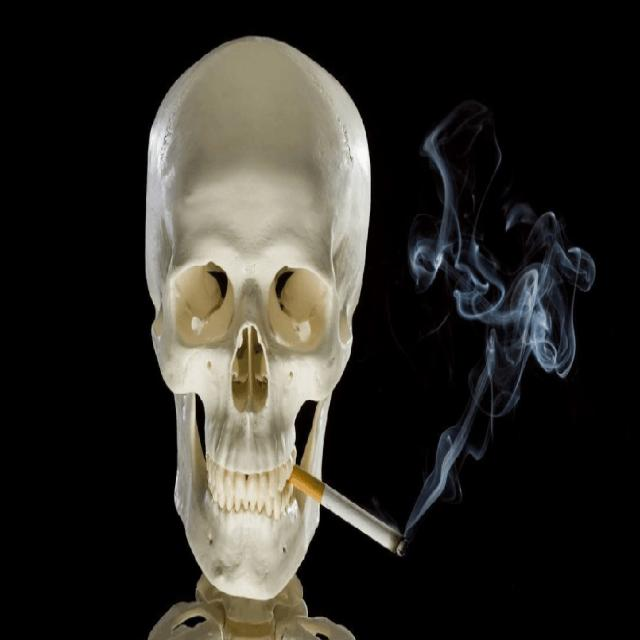smoking: (267, 398, 447, 572)
